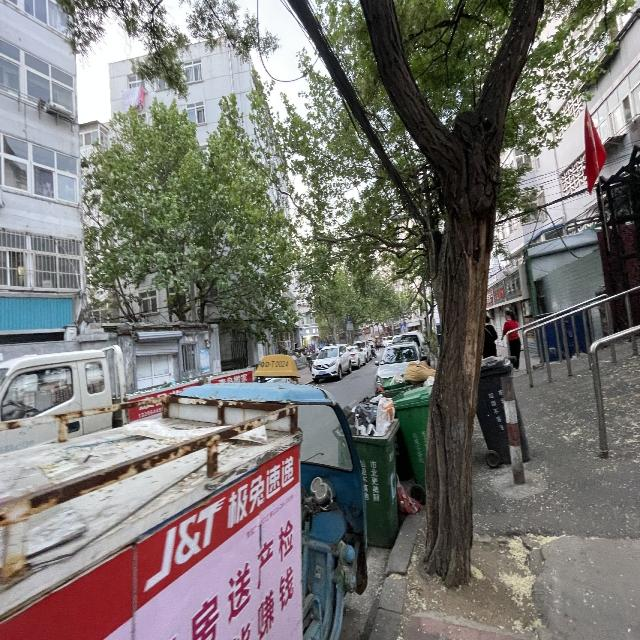garbage: (396, 474, 422, 515)
garbage_bin: (476, 354, 528, 463), (393, 384, 432, 485)
overflow: (338, 393, 399, 547)
